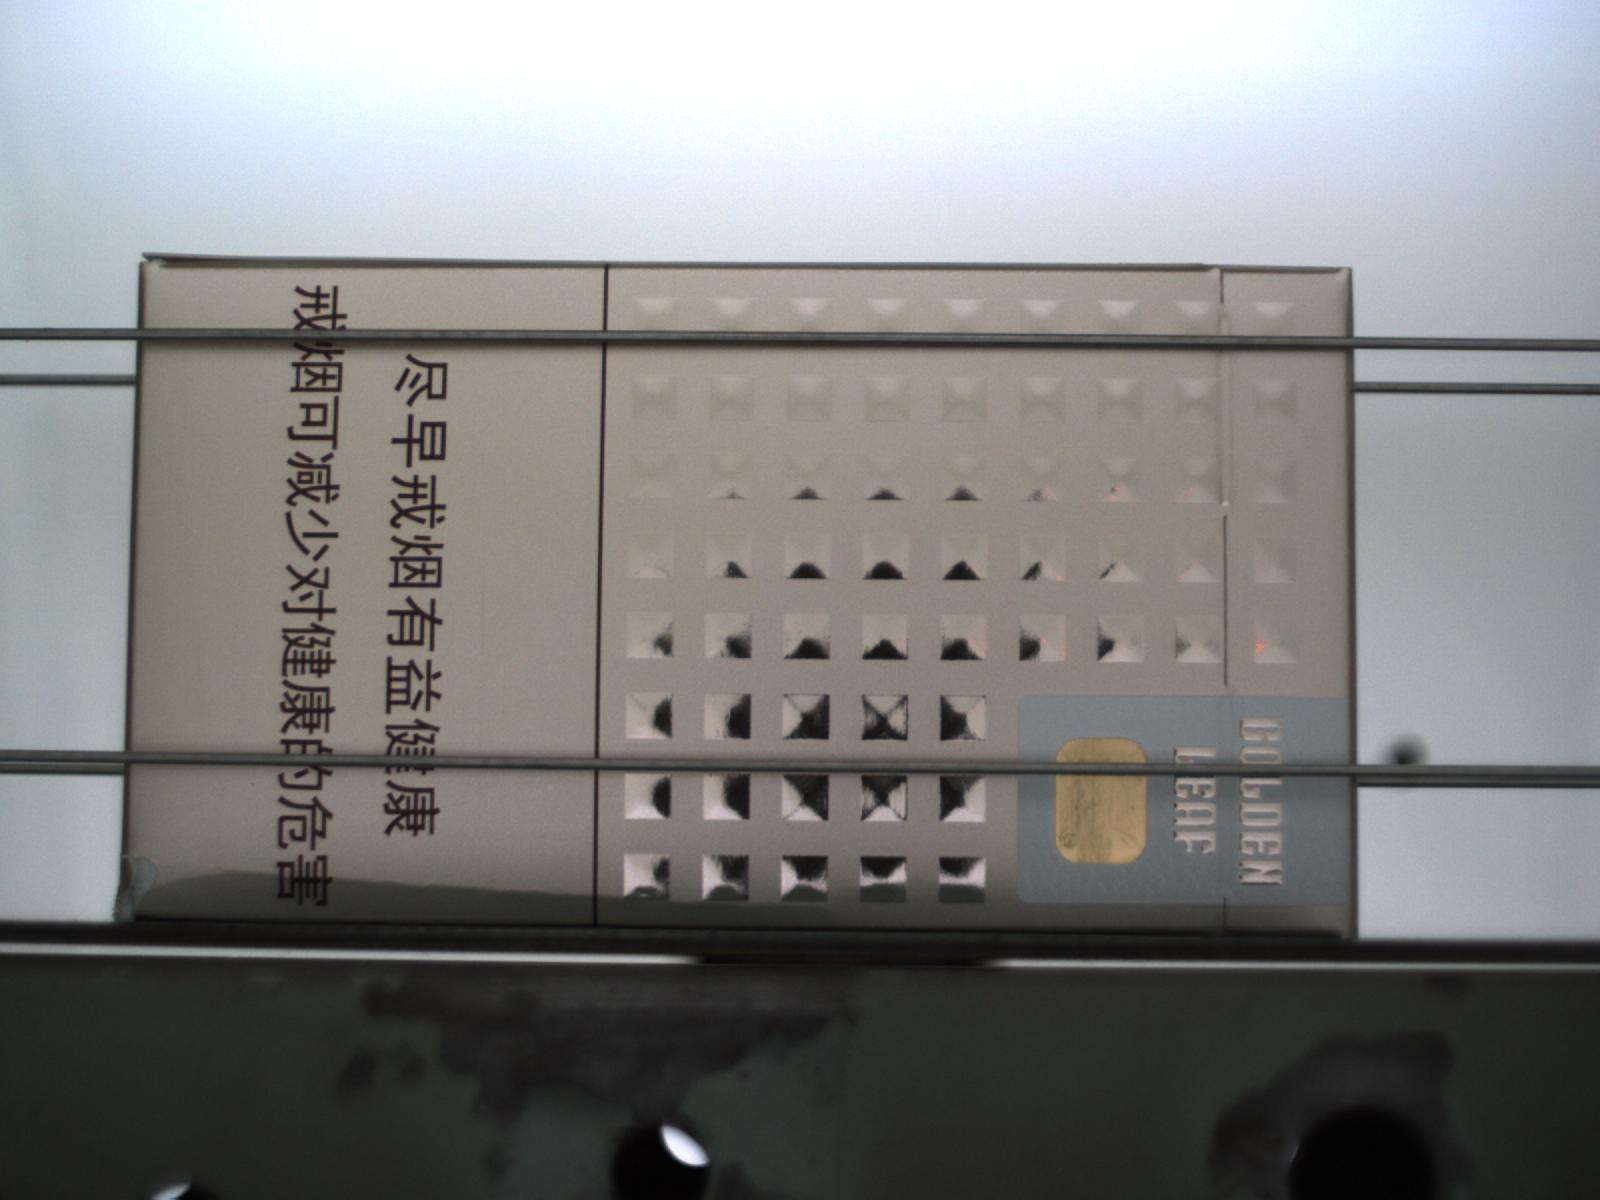dirtyScratch: (110, 866, 864, 932)
skewed_upper_0: (110, 853, 171, 929)
